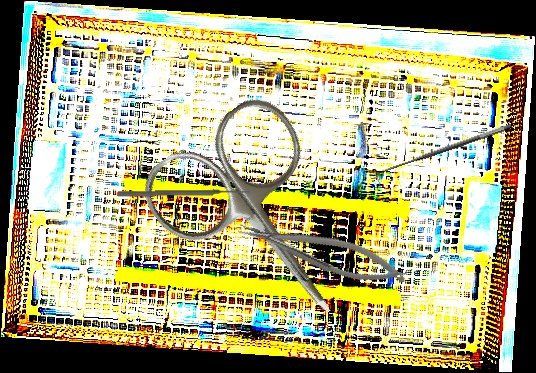Hook Surgical: (373, 122, 517, 186)
Iris Scissors: (131, 86, 394, 362)
Needle Holder: (235, 206, 411, 297)
Pusher: (117, 187, 251, 199)
